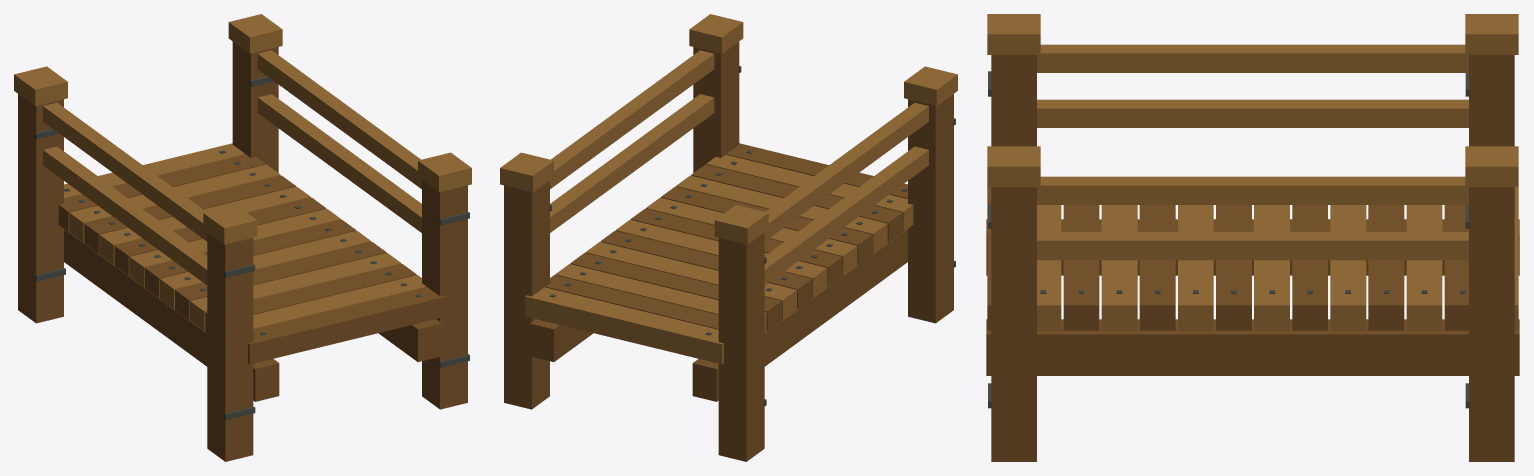
The model's file is SM_DC_Bridge_Half.fbx.
3 views of the same model, side by side, from view 1: azimuth 30°, elevation 25°; view 2: azimuth 150°, elevation 25°; view 3: azimuth 270°, elevation 25° (orthographic). The views are drawn at different scales.
Visible parts, largest first — view 1: SM_DC_Bridge_Half; view 2: SM_DC_Bridge_Half; view 3: SM_DC_Bridge_Half.
Part boxes in pixels (box(x1,y1,x2,y2)): SM_DC_Bridge_Half: box(14, 14, 471, 461); SM_DC_Bridge_Half: box(500, 14, 957, 461); SM_DC_Bridge_Half: box(986, 14, 1519, 461).
Size of the model in its own units: 1.42 by 2.1 by 1.29.
